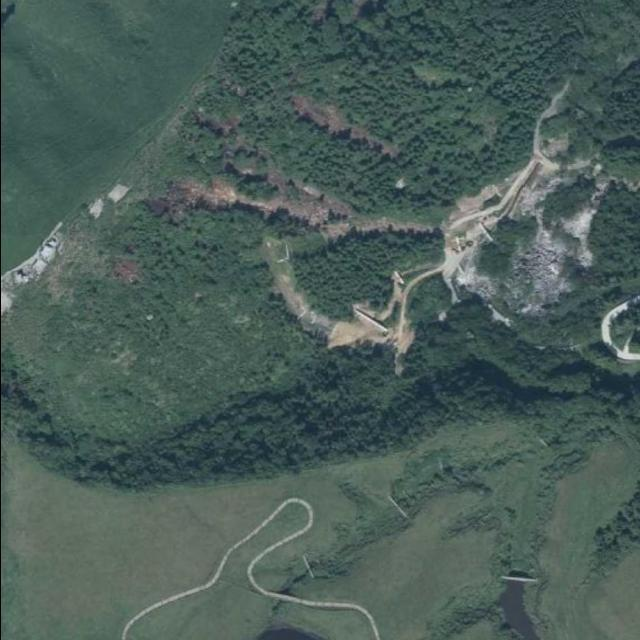landslide: (262, 82, 583, 371), (163, 143, 433, 249), (538, 178, 609, 267)
